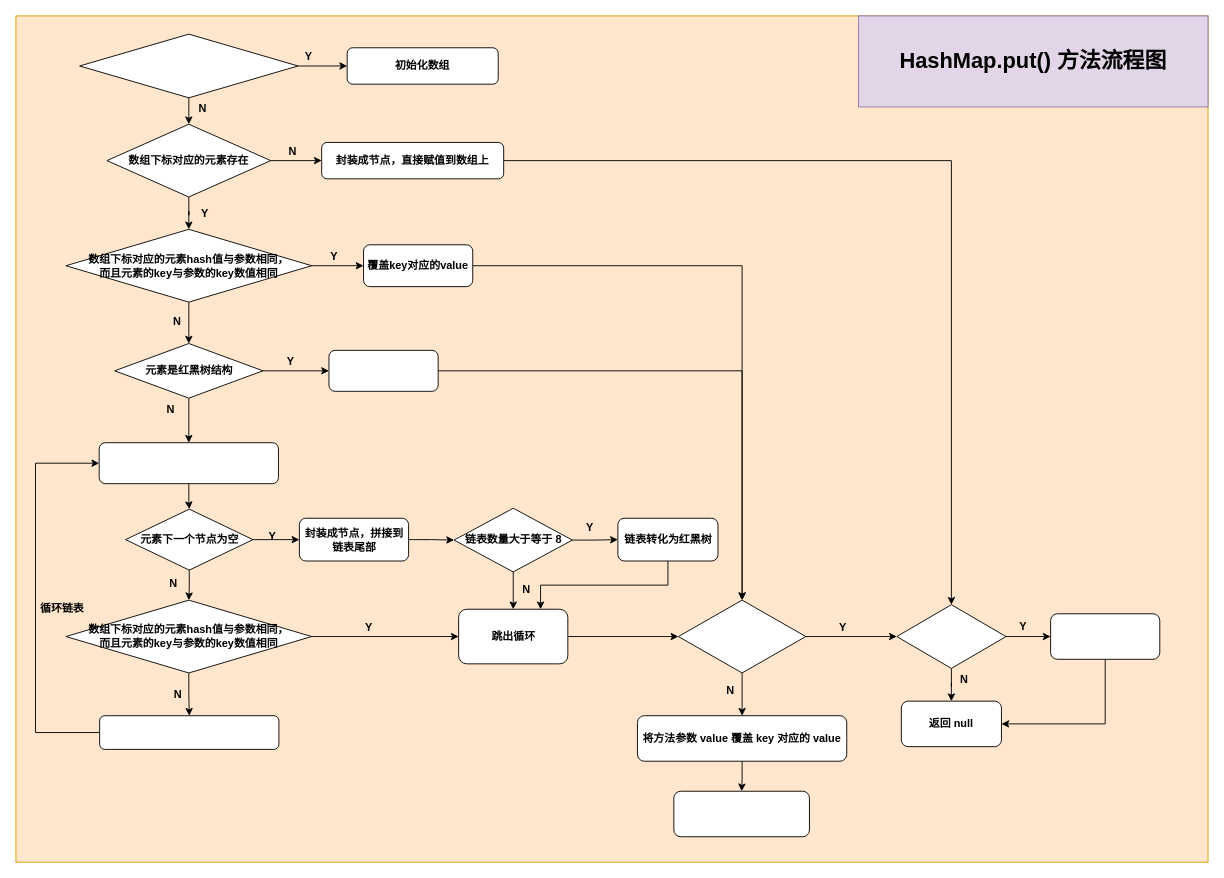
This 1224x878 diagram has some shape labels left out. Here are the shapes that lost their labels. From the top down, the box of each, then its label:
(79, 33, 298, 98): 数组没被初始化或数组长度等于0
(328, 349, 438, 391): 红黑树插入数据
(98, 442, 278, 484): 当前节点 p 的下一个节点赋值给 e
(677, 599, 806, 673): 节点 e 为 null
(896, 604, 1006, 668): 数组长度大于阀值
(1050, 613, 1160, 659): 执行 resize() 扩容
(99, 715, 279, 749): 下一个节点 e 赋值给当前节点 p
(673, 790, 809, 837): 返回被覆盖的 value 值
